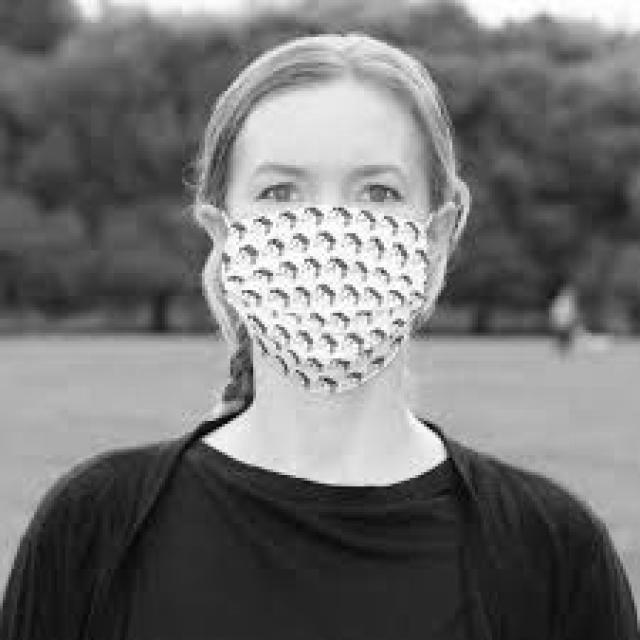fake: (214, 202, 442, 397)
real: (227, 84, 430, 386)
